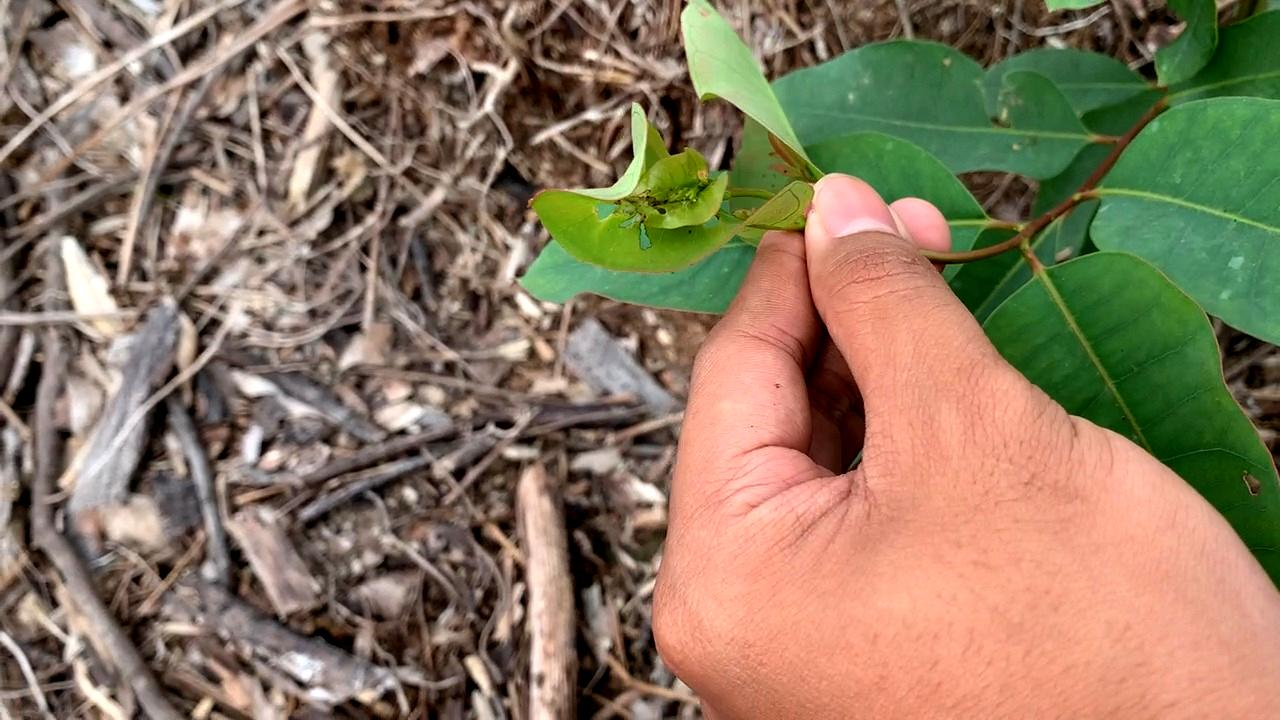Leaf Roller - Leaf: (516, 105, 822, 281)
